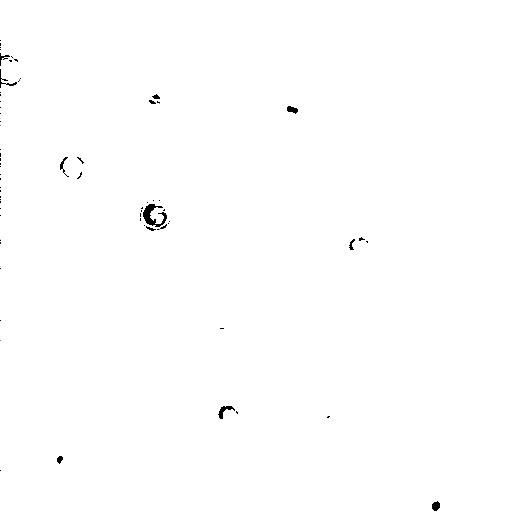micro-algae: (479, 172, 511, 223), (137, 198, 173, 229), (274, 92, 309, 123), (418, 487, 454, 511), (49, 447, 75, 480), (0, 55, 26, 86), (59, 153, 85, 182), (345, 234, 372, 259), (217, 405, 239, 424)
